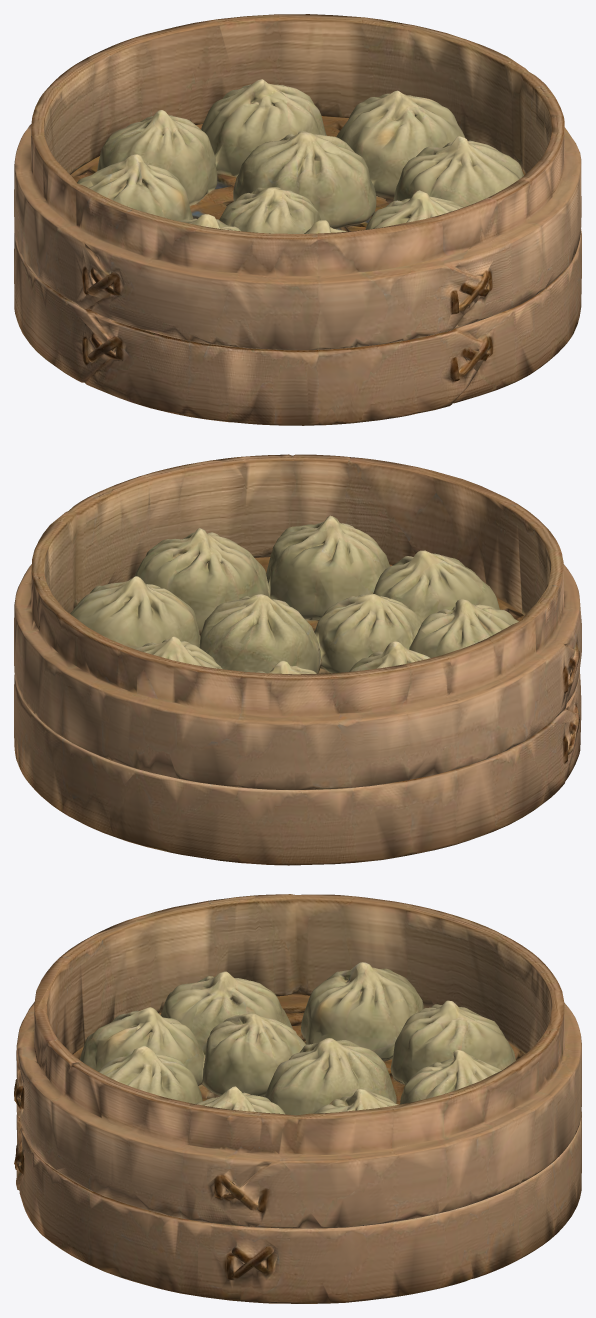
The model's file is veg-momos.glb.
The picture shows the model from 3 angles, top to bottom: view 1: azimuth 30°, elevation 25°; view 2: azimuth 150°, elevation 25°; view 3: azimuth 270°, elevation 25°; orthographic projection.
Parts seen in each view (by area): view 1: mesh_node; view 2: mesh_node; view 3: mesh_node.
Part boxes in pixels (<box>): mesh_node: <box>14,14,581,425</box>; mesh_node: <box>14,454,581,865</box>; mesh_node: <box>14,894,581,1303</box>.
Size of the model in its own units: 1.89 by 0.6734 by 1.9.
1 material, 1 textured.
